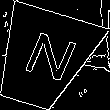N_S: (10, 28, 76, 89)
